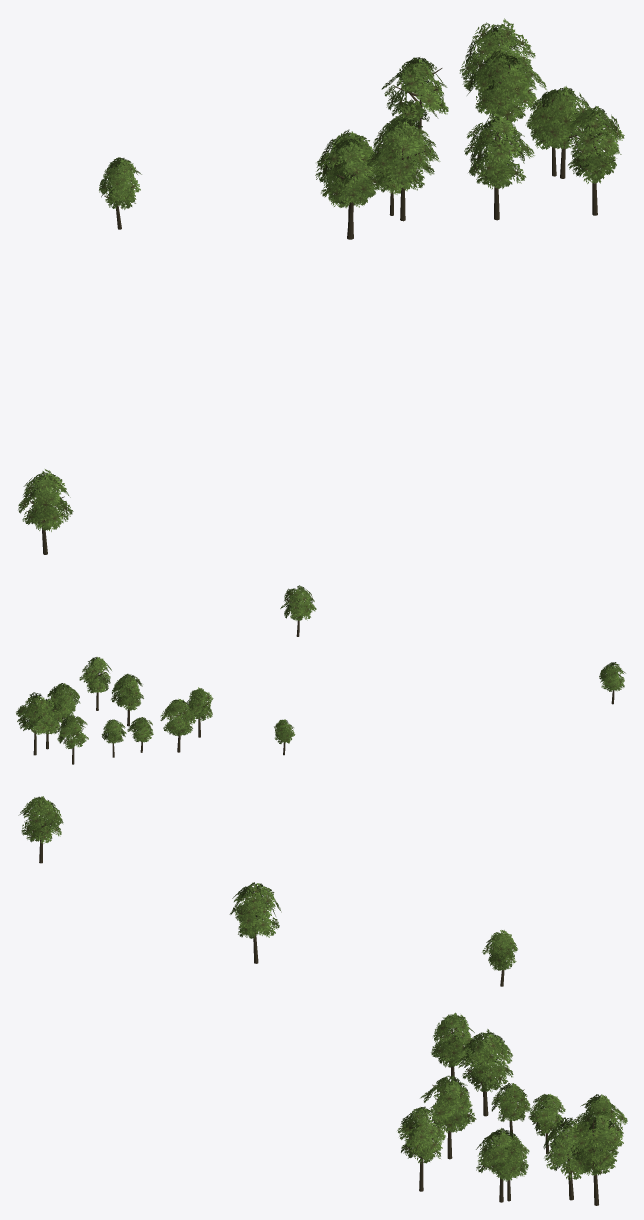
The model's file is TRB8-FOREST-CHUNK-2-4.glb.
The picture shows the model from 3 angles, top to bottom: view 1: azimuth 30°, elevation 25°; view 2: azimuth 150°, elevation 25°; view 3: azimuth 270°, elevation 25°; orthographic projection. The views are drawn at different scales.
Visible parts, largest first — view 1: TRB8-FOREST-CHUNK-2-4; view 2: TRB8-FOREST-CHUNK-2-4; view 3: TRB8-FOREST-CHUNK-2-4.
Boxes of the visible parts, x1,y1,x2,y2 form: TRB8-FOREST-CHUNK-2-4: [18, 18, 624, 554]; TRB8-FOREST-CHUNK-2-4: [16, 585, 625, 764]; TRB8-FOREST-CHUNK-2-4: [18, 796, 627, 1205].
Bounding box in the file's own units: 41.63 × 11.77 × 32.44.
Materials: 2 (1 with a texture image).
